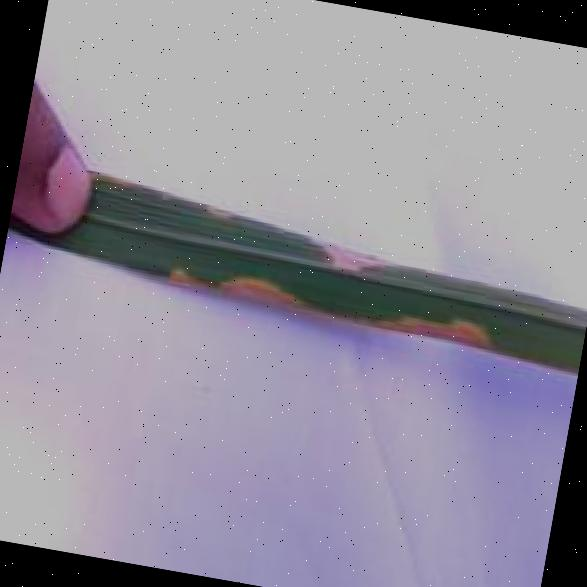Bacteria_Leaf_Blight: (117, 202, 544, 385)
